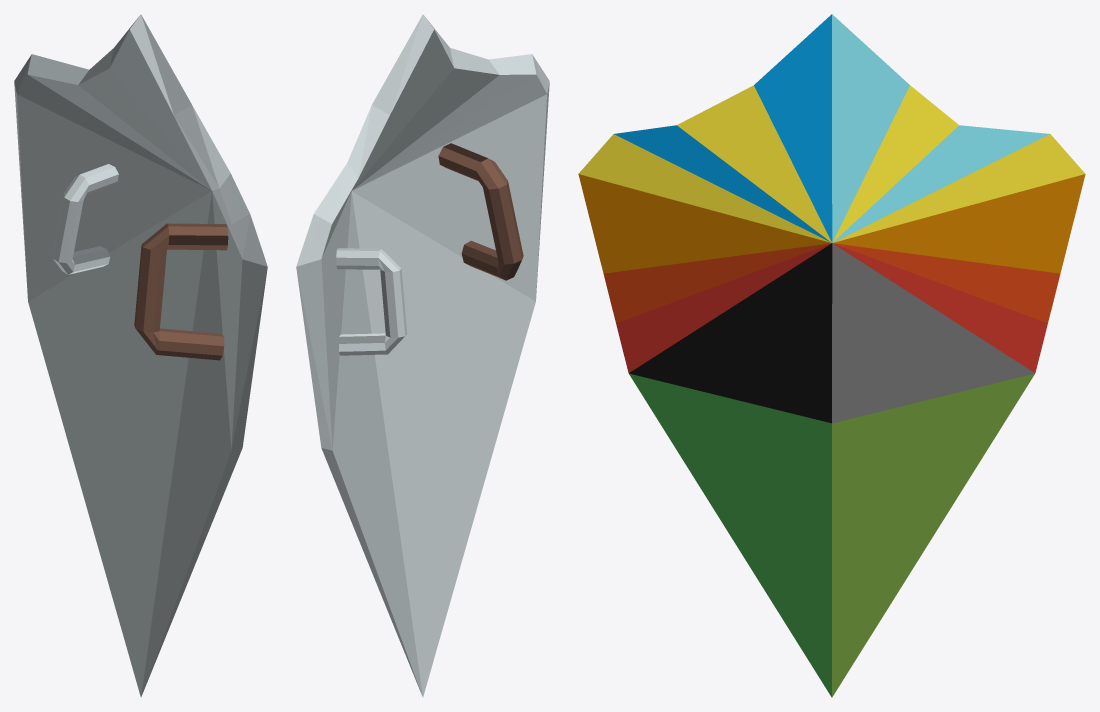
File: shield.glb
3 views of the same model, side by side, from view 1: azimuth 30°, elevation 25°; view 2: azimuth 150°, elevation 25°; view 3: azimuth 270°, elevation 25° (orthographic).
Parts seen in each view (by area): view 1: Node; view 2: Node; view 3: Node.
Part boxes in pixels (x1=…): Node: x1=14, y1=14, x2=267, y2=697; Node: x1=296, y1=14, x2=549, y2=697; Node: x1=578, y1=14, x2=1085, y2=697.
Bounding box in the file's own units: 0.1021 × 0.54 × 0.363.
